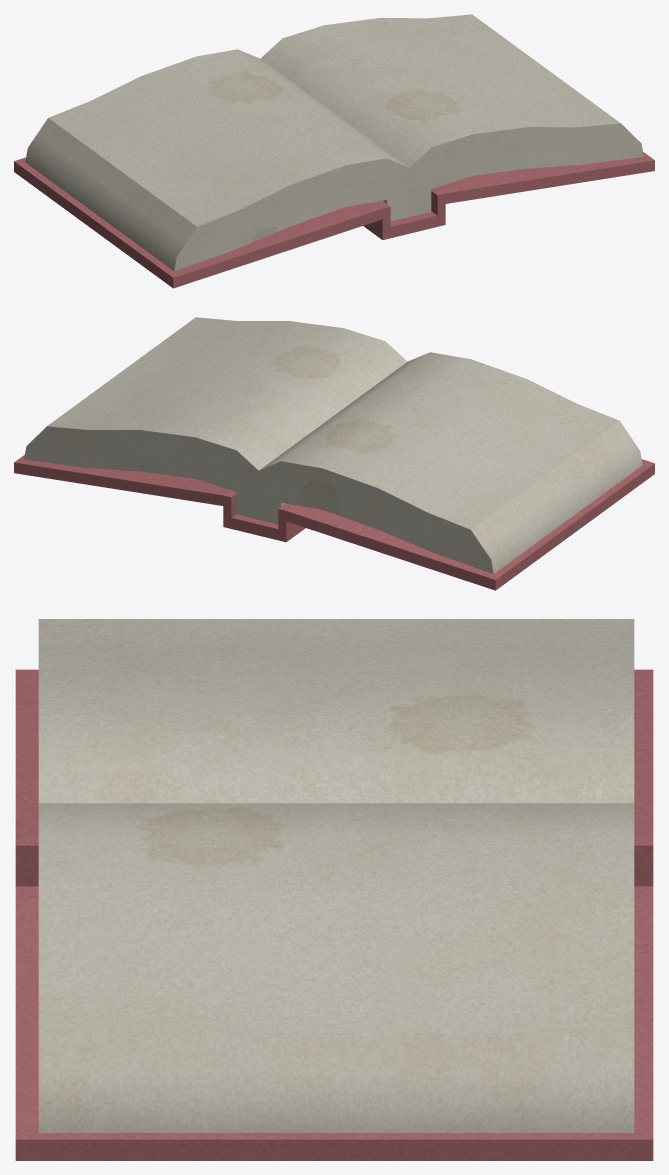
The model's file is openBook1.fbx.
The picture shows the model from 3 angles, top to bottom: view 1: azimuth 30°, elevation 25°; view 2: azimuth 150°, elevation 25°; view 3: azimuth 270°, elevation 25°; orthographic projection. The views are drawn at different scales.
Visible parts, largest first — view 1: group5_pCube58; view 2: group5_pCube58; view 3: group5_pCube58.
Boxes of the visible parts, box(x1,y1,x2,y2) form: group5_pCube58: box(14, 14, 654, 288); group5_pCube58: box(14, 317, 654, 590); group5_pCube58: box(15, 619, 653, 1160).
Size of the model in its own units: 0.4842 by 0.0752 by 0.2774.
